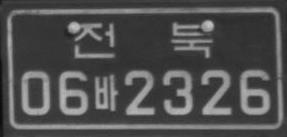0: (20, 69, 51, 116)
2: (199, 68, 232, 115), (124, 68, 156, 115)
3: (162, 68, 194, 116)
6: (239, 68, 270, 116), (57, 69, 88, 116)
바: (93, 73, 119, 111)
전북_D: (73, 20, 214, 58)
